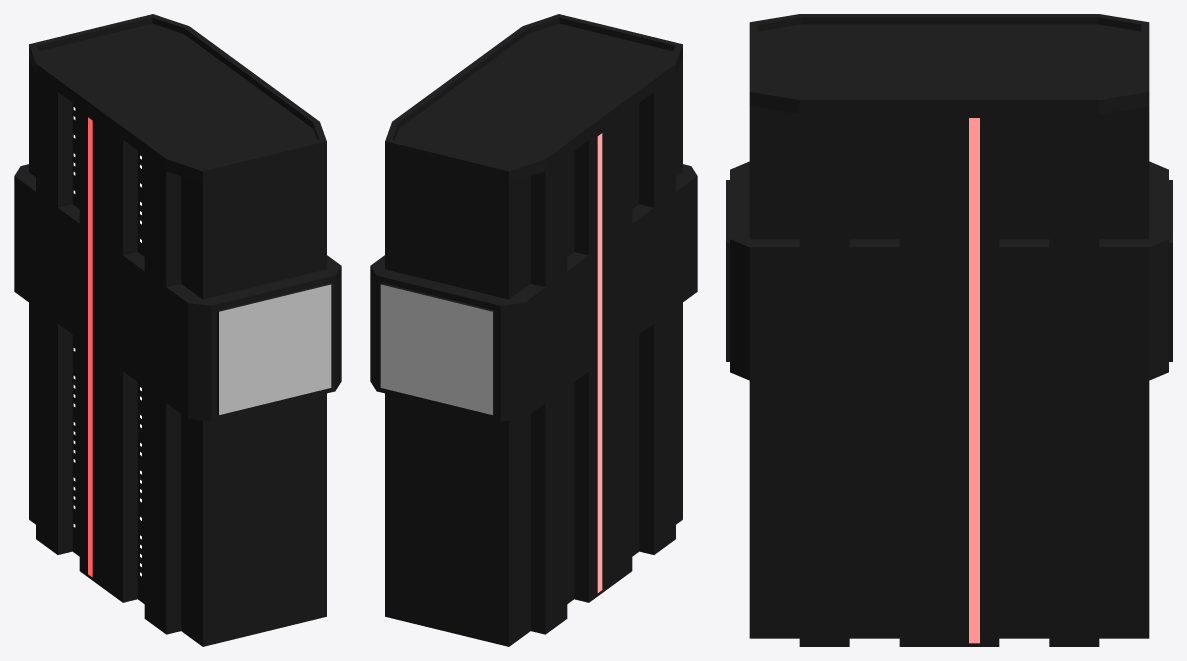
File: building.gltf
3 renders of one model, left to right at view 1: azimuth 30°, elevation 25°; view 2: azimuth 150°, elevation 25°; view 3: azimuth 270°, elevation 25°, orthographic. The views are drawn at different scales.
Visible parts, largest first — view 1: Plane; view 2: Plane; view 3: Plane.
Part boxes in pixels (<box>): Plane: <box>14,14,341,646</box>; Plane: <box>370,14,697,646</box>; Plane: <box>726,14,1172,646</box>.
Size of the model in its own units: 52 by 154 by 114.
